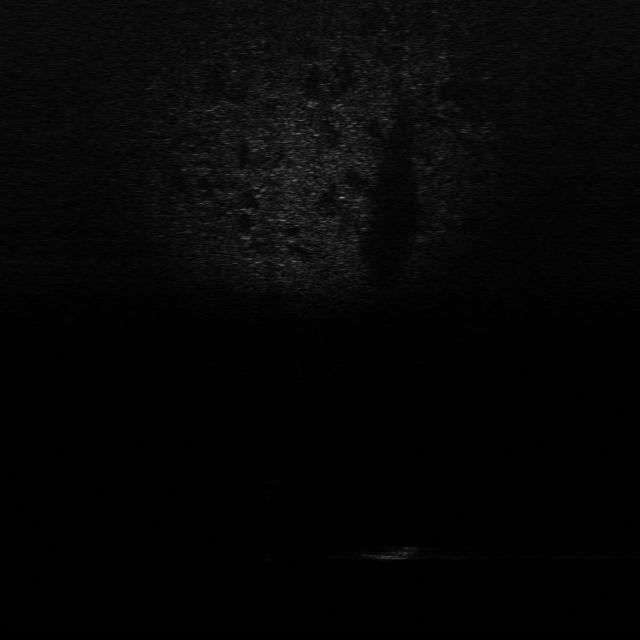metal bucket: (358, 538, 423, 566)
